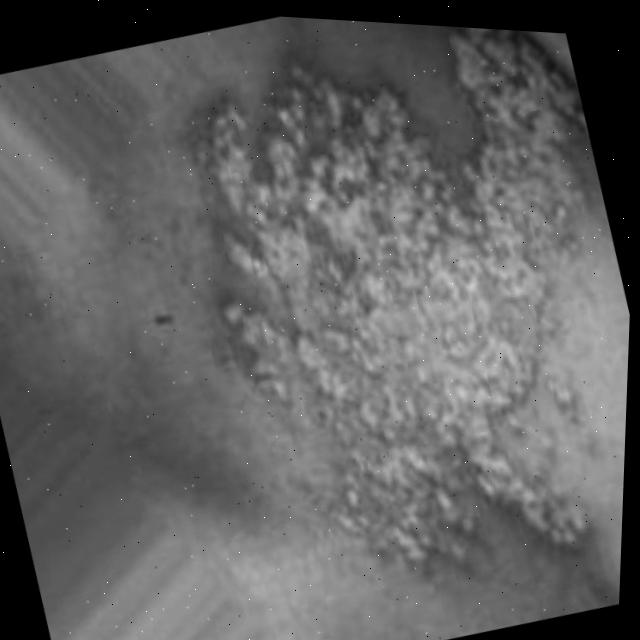Shingles: (190, 12, 640, 590)
